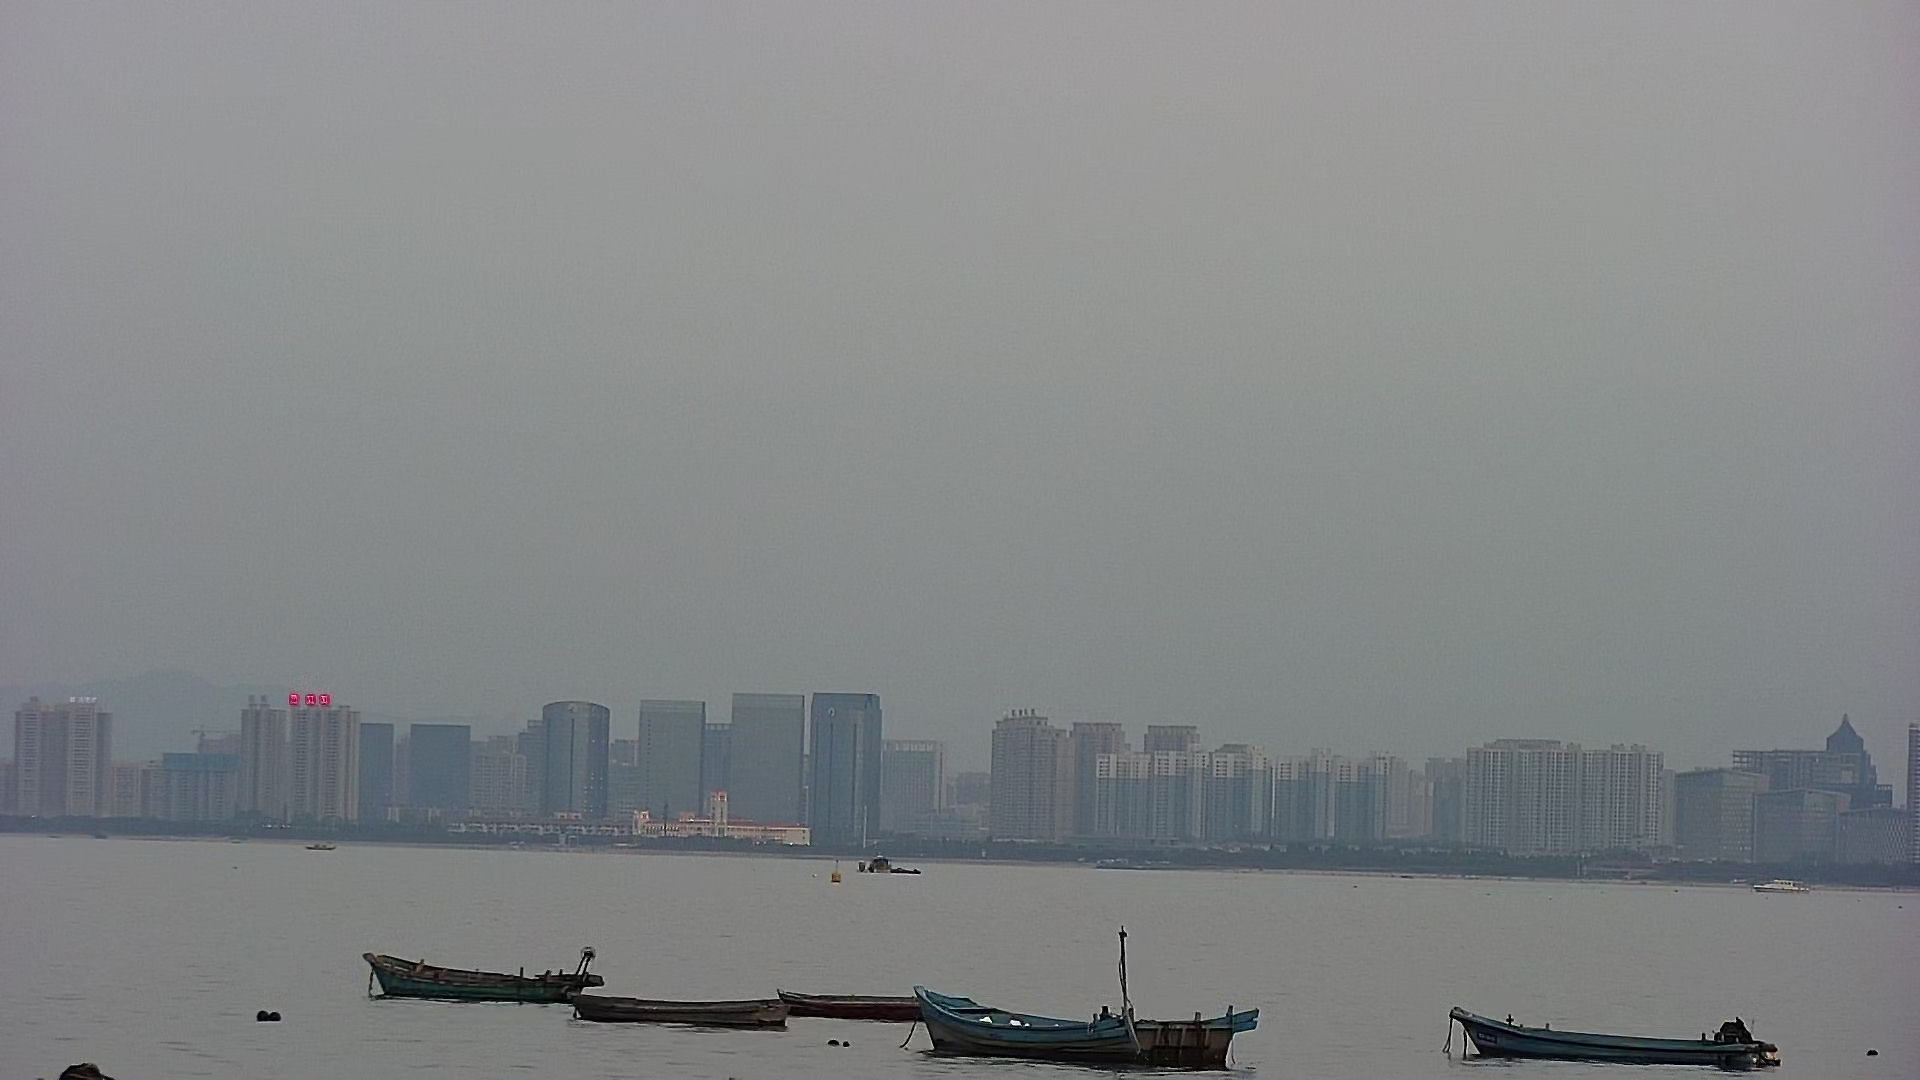boat: (909, 926, 1261, 1080), (1447, 973, 1807, 1080), (349, 938, 597, 1015), (778, 945, 973, 1029), (567, 972, 786, 1044), (853, 848, 927, 881)
